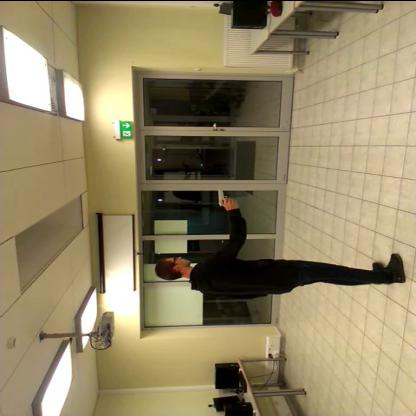Pistol: (212, 186, 240, 205)
